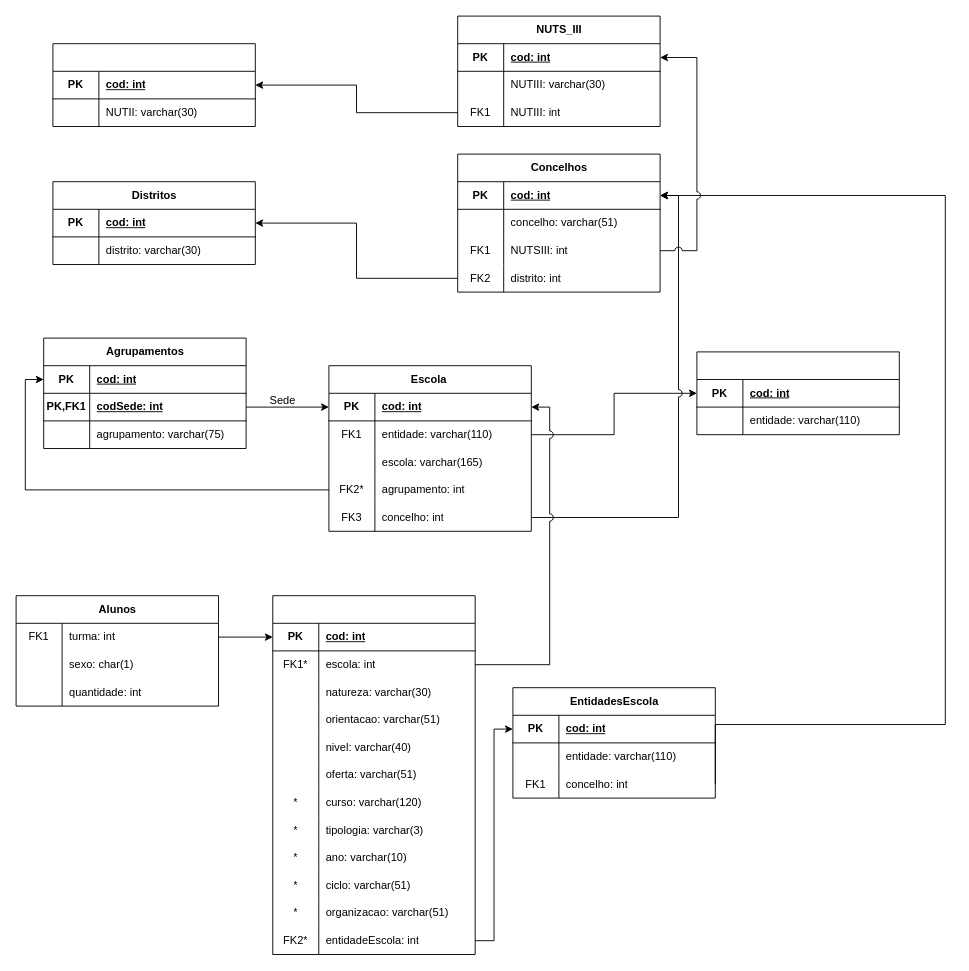
The diagram is 969 pixels wide and 971 high, and some of its shapes have lost their labels. Here are the shapes that lost their labels. From the top down, the box of each, then its label:
(52, 43, 255, 126): NUTS_II
(696, 351, 899, 435): Entidades
(272, 595, 475, 954): Turmas
